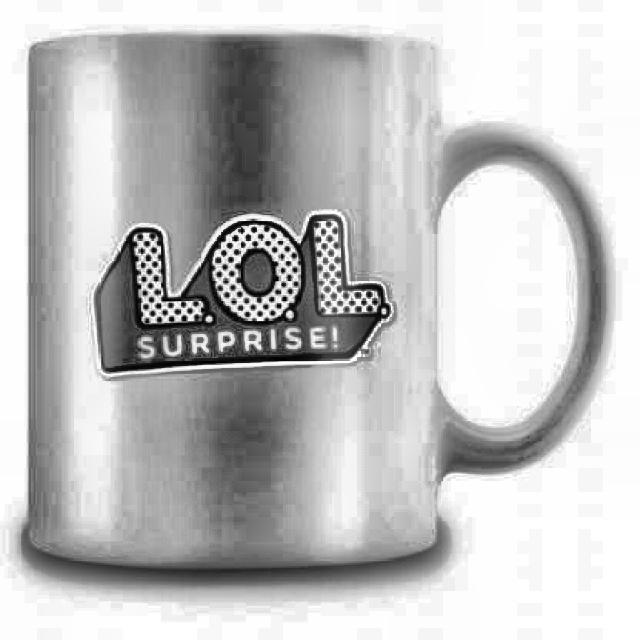Mug: (25, 30, 612, 573)
